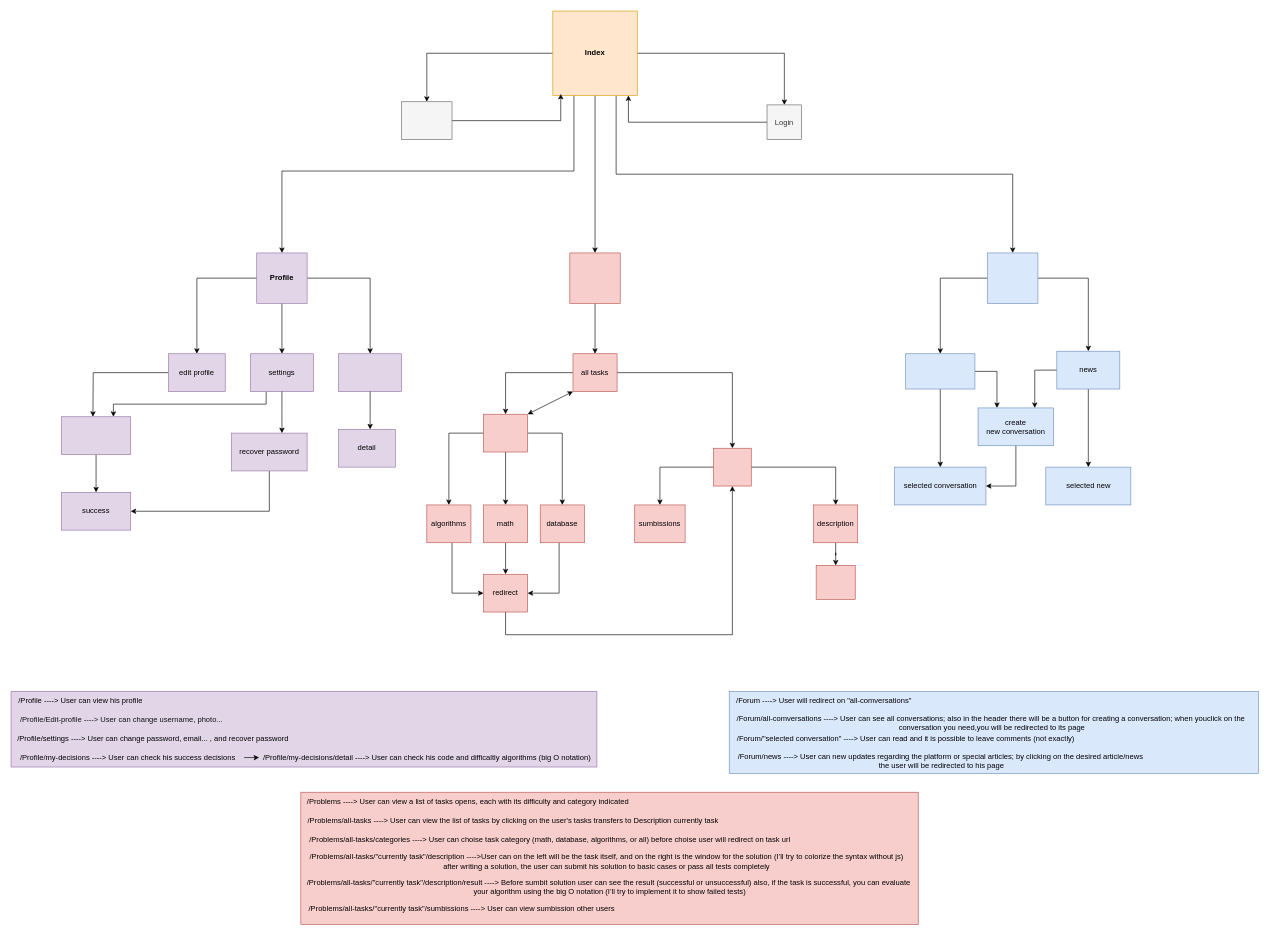
Image size: 1269x936. Some labels were removed from this diagram. Here are the shapes that lost their labels. From the top down, the box of each, then its label:
(401, 101, 452, 140): authorization
(569, 252, 620, 303): Problems
(987, 252, 1038, 303): Forum
(338, 353, 402, 392): my decisions
(905, 353, 975, 389): all conversations
(61, 416, 131, 455): change password
(483, 414, 528, 452): categories
(713, 448, 751, 486): task
(816, 565, 855, 599): result
